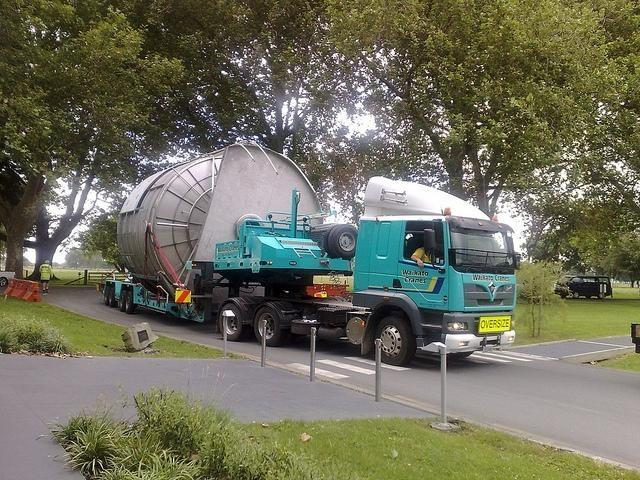car: (554, 276, 614, 300), (1, 271, 16, 287)
truck: (103, 174, 520, 366), (566, 276, 612, 299)
